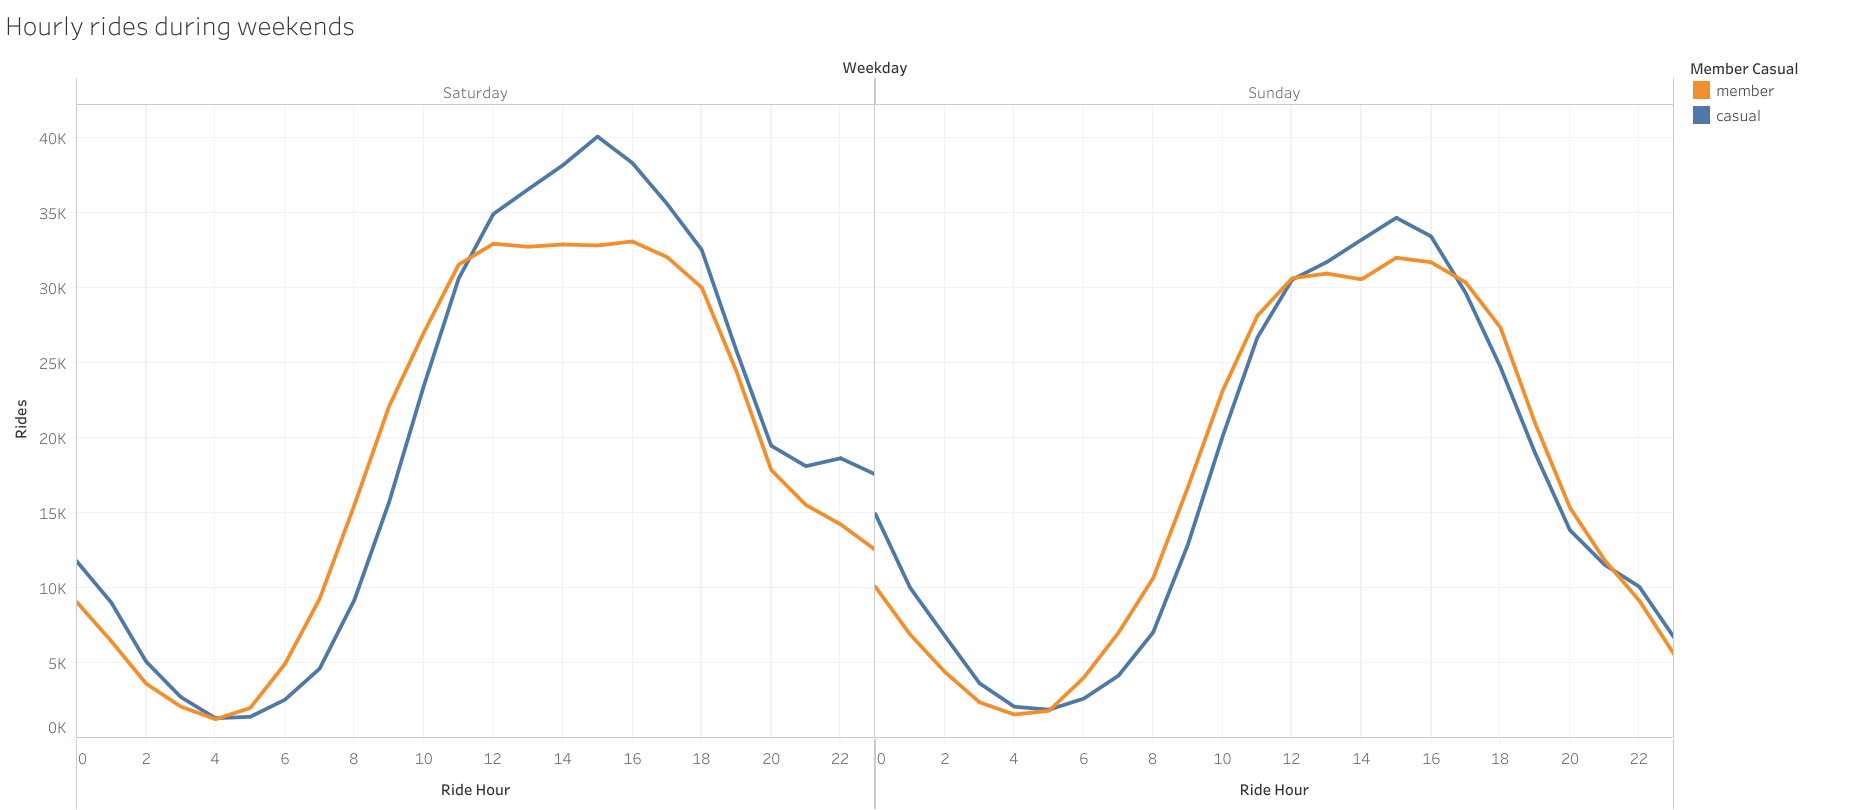

What the dashboard file says about the page in this screenshot:
{"tool":"tableau","page":{"name":"Dashboard 1","canvas":[1000,1000],"units":"permille","ordinal":0},"visuals":[{"type":"worksheet","title":"Sheet 1","mark":"Automatic","rows":["total"],"cols":["member_casual"],"box":[4.8,9.3,495.2,981.4]},{"type":"worksheet","title":"Sheet 2","mark":"Automatic","rows":["total"],"cols":["member_casual"],"box":[500,9.3,495.2,981.4]}]}

Visuals, with their boxes on the dashboard's canvas, which has no fixed pixel size, in thousandths of its width and height (x1, y1, x2, y2). These are canvas units, not pixel positions in the 1864x810 screenshot, which may show the page scaled, cropped or inside an application window:
"Sheet 1" worksheet: rect(5, 9, 500, 991)
"Sheet 2" worksheet: rect(500, 9, 995, 991)
